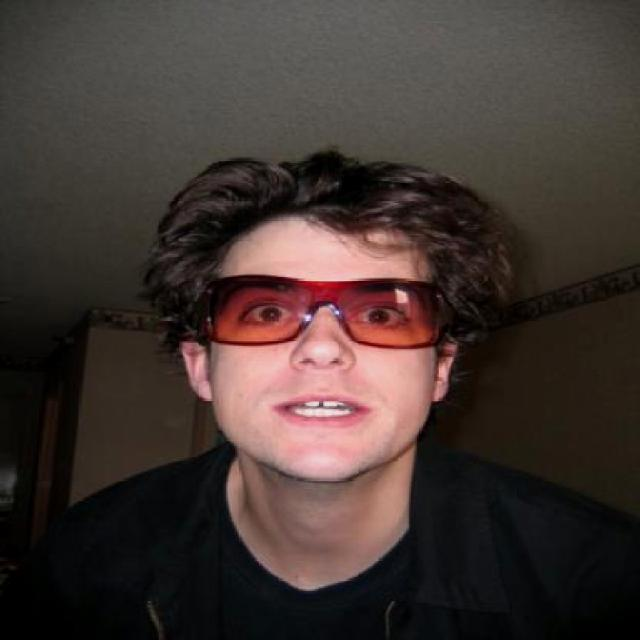face_nomask: (233, 282, 427, 436)
glasses: (193, 268, 459, 348)
head_nohelmet: (167, 150, 470, 256)
